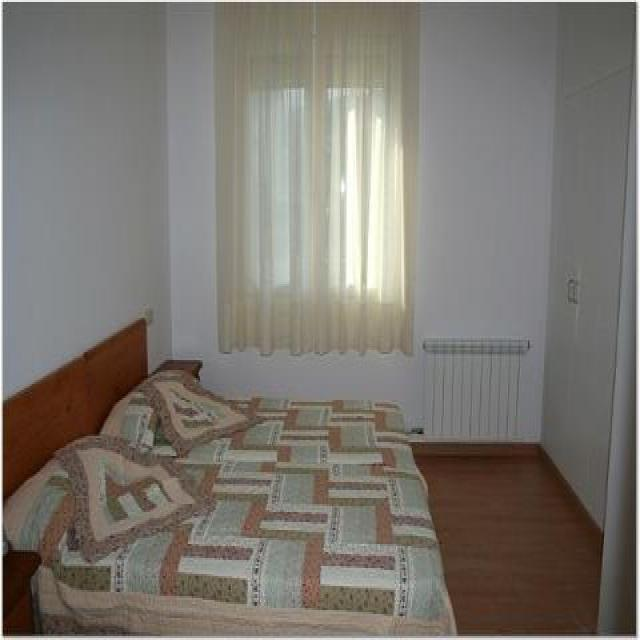Curtain: (212, 2, 420, 368)
bed -occluded-: (4, 370, 457, 634)
curtains: (212, 0, 419, 356)
floor- parquet: (413, 446, 604, 632)
headboard: (3, 316, 148, 506)
pillow occluded: (67, 436, 216, 560)
radiator occluded: (424, 338, 528, 440)
wall clock: (539, 0, 635, 554)
